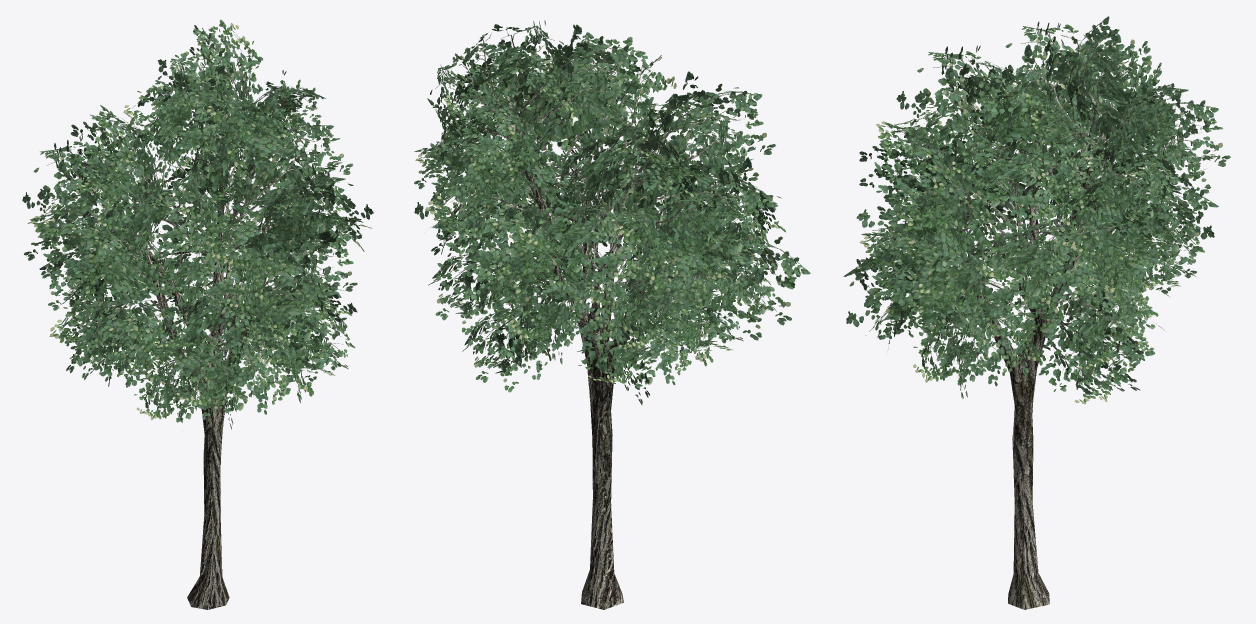
3 views of the same model, side by side, from view 1: azimuth 30°, elevation 25°; view 2: azimuth 150°, elevation 25°; view 3: azimuth 270°, elevation 25° (orthographic). The views are drawn at different scales.
Parts seen in each view (by area): view 1: 榕树11; view 2: 榕树11; view 3: 榕树11.
Part boxes in pixels (x1=…): 榕树11: x1=22, y1=19, x2=373, y2=609; 榕树11: x1=414, y1=20, x2=810, y2=609; 榕树11: x1=843, y1=16, x2=1230, y2=609.
Bounding box in the file's own units: 3.27 × 5.35 × 3.23.
2 materials, 2 textured.
